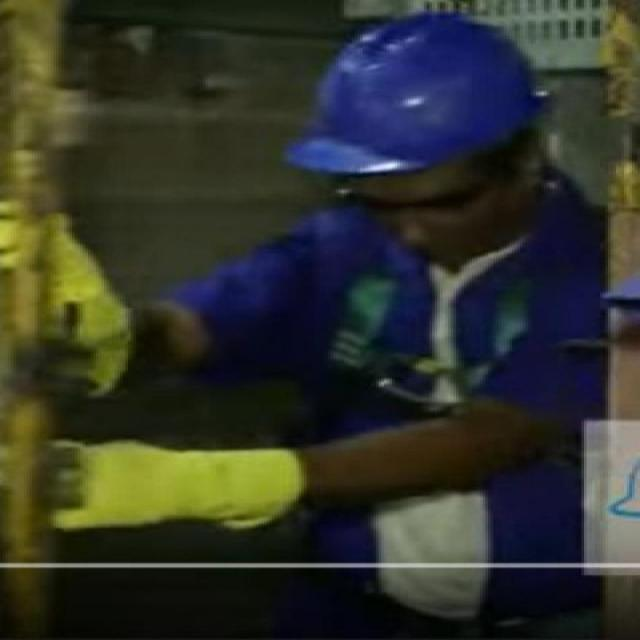Helmet: (114, 128, 640, 640), (244, 0, 606, 208)
